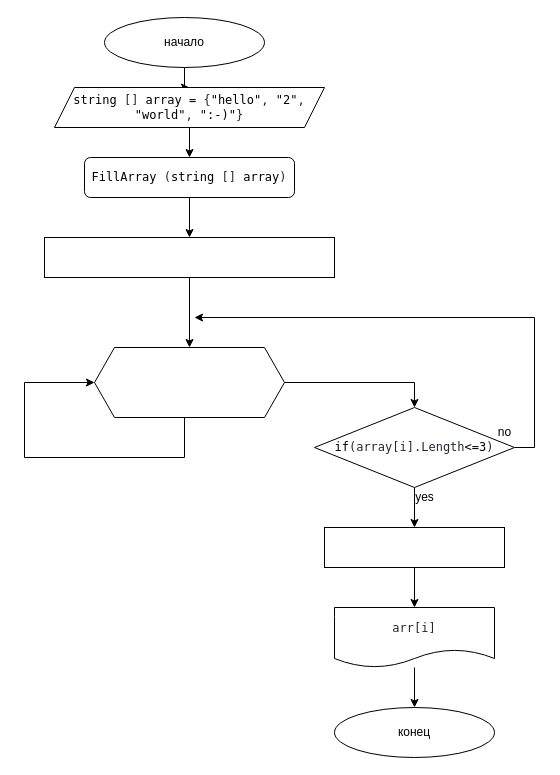
This 560x775 diagram has some shape labels left out. Here are the shapes that lost their labels. From the top down, the centre of each, then its label:
At (189,257): "string [] arr = new string [ array . Length ]".
At (189,382): "for ( int i = 0 ; i <a rray . Length ; i ++ )".
At (414,547): "arr [ i ] = array [ i ]".
